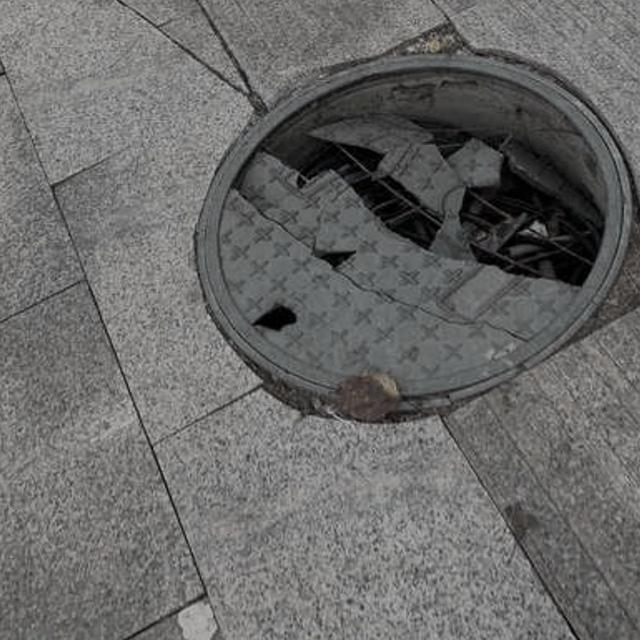broke: (177, 41, 640, 430)
